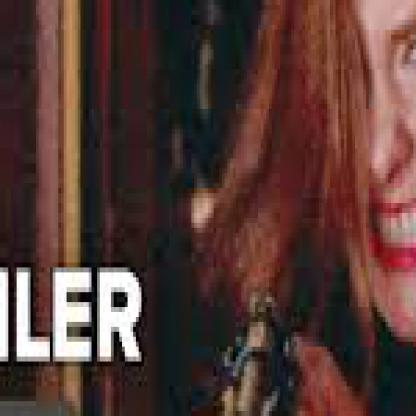gun: (175, 5, 413, 282)
